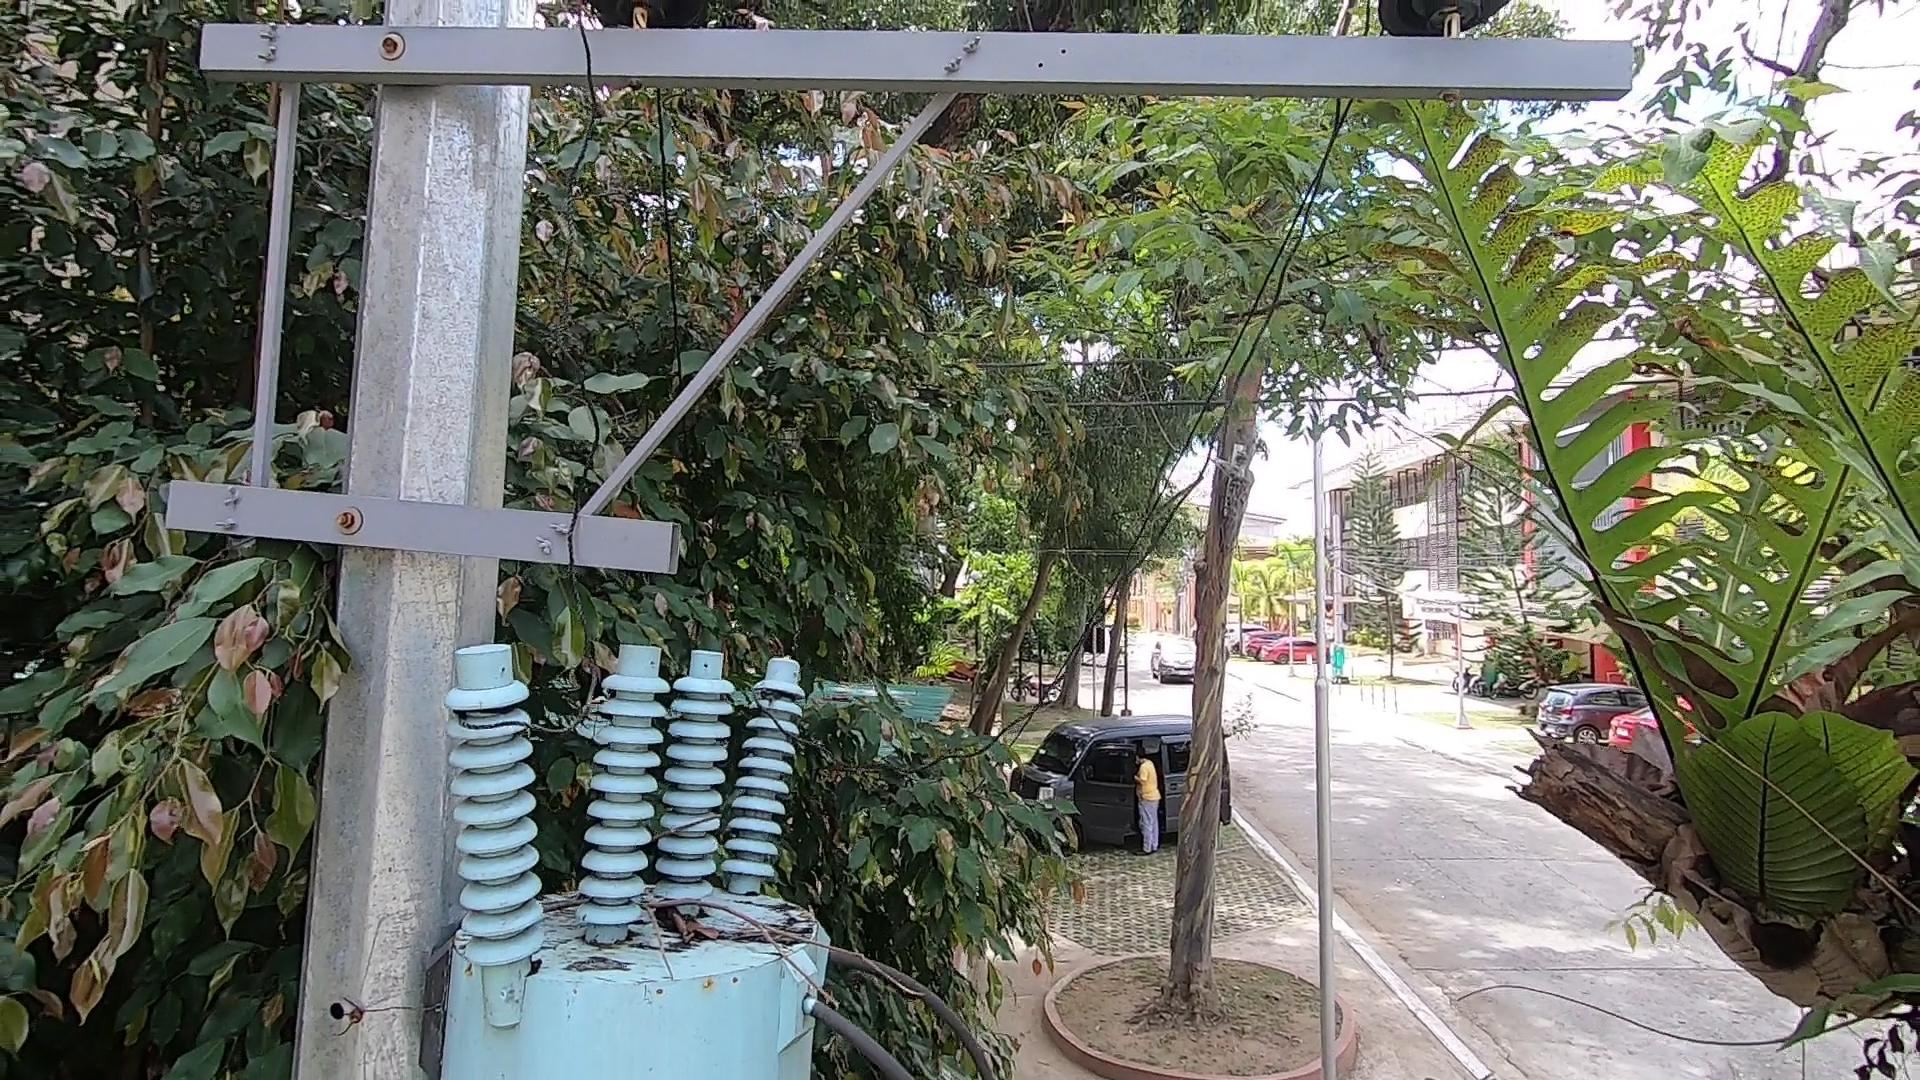leaf: (649, 891, 711, 957)
tree branch: (545, 860, 944, 1023)
